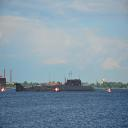submarine: (16, 75, 103, 92)
